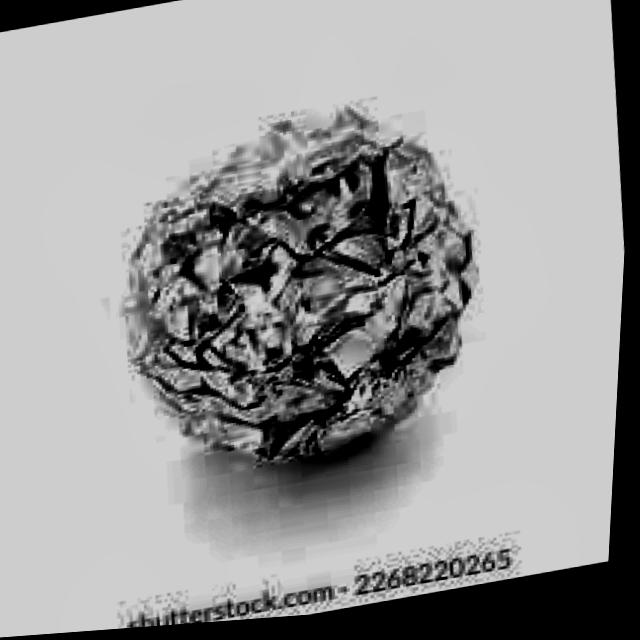Foil: (88, 73, 511, 518)
